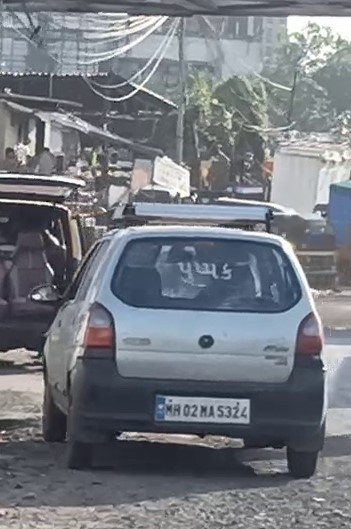MH02MA5324: (152, 393, 251, 423)
